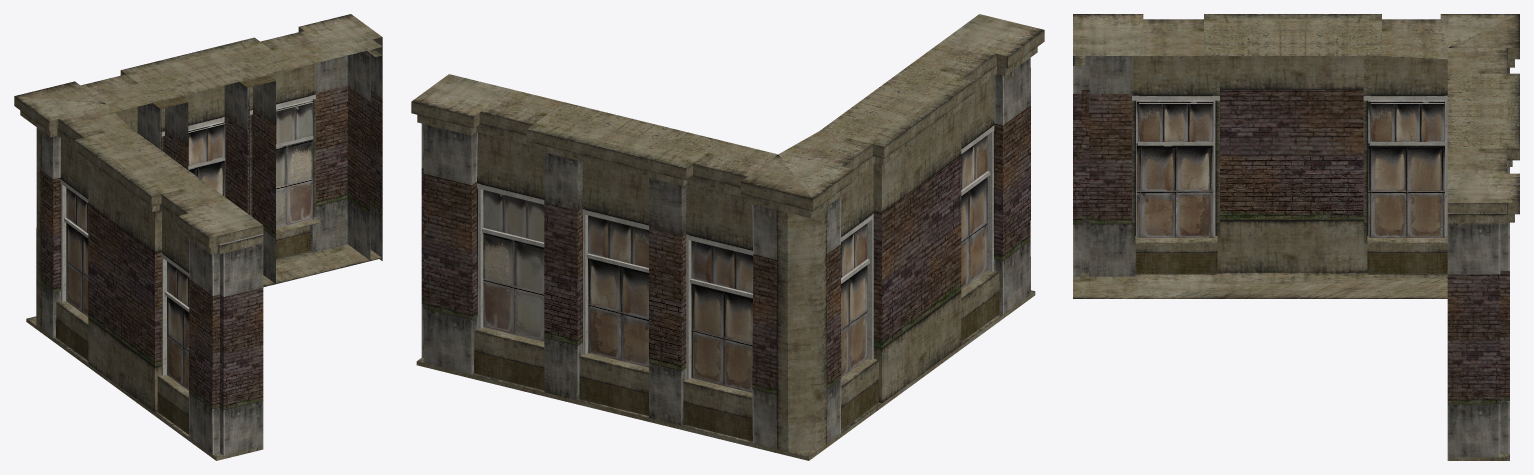
The model's file is Corner_Building_Part_06_Tile.fbx.
The picture shows the model from 3 angles, left to right: view 1: azimuth 30°, elevation 25°; view 2: azimuth 150°, elevation 25°; view 3: azimuth 270°, elevation 25°; orthographic projection. The views are drawn at different scales.
Parts seen in each view (by area): view 1: Corner_Building_Part_06_Tile; view 2: Corner_Building_Part_06_Tile; view 3: Corner_Building_Part_06_Tile.
Boxes of the visible parts, <box> form: Corner_Building_Part_06_Tile: <box>14,14,382,460</box>; Corner_Building_Part_06_Tile: <box>411,14,1044,460</box>; Corner_Building_Part_06_Tile: <box>1073,14,1519,460</box>.
Size of the model in its own units: 716 by 456 by 716.
